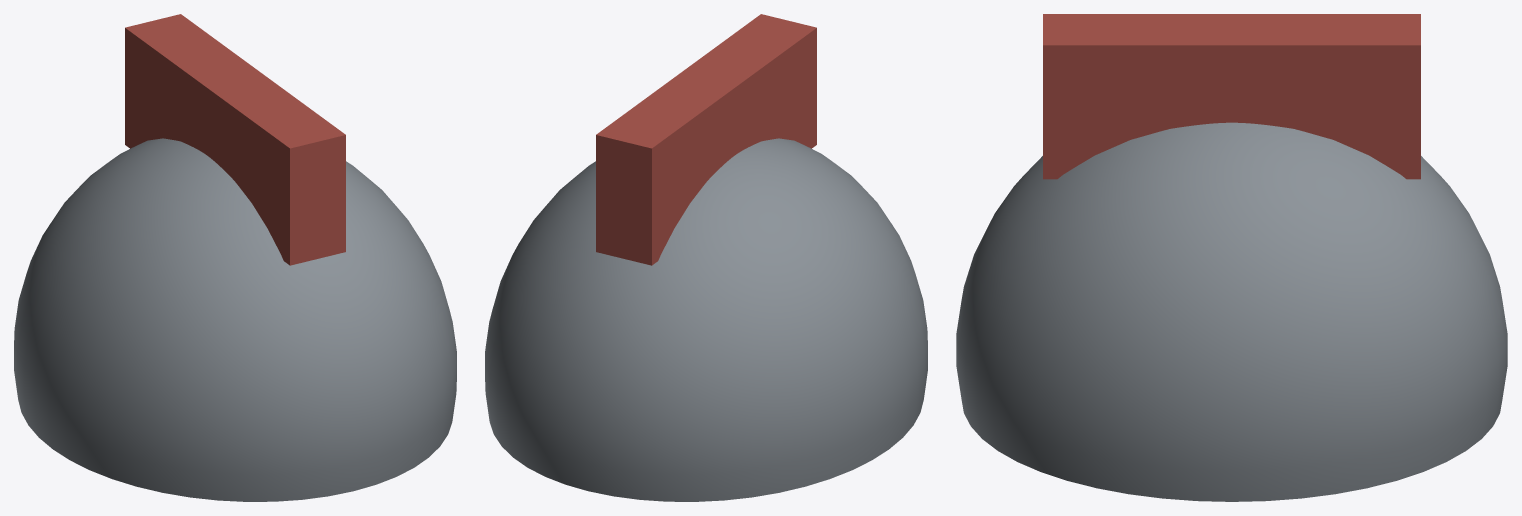
File: roman_helmet.glb
3 views of the same model, side by side, from view 1: azimuth 30°, elevation 25°; view 2: azimuth 150°, elevation 25°; view 3: azimuth 270°, elevation 25° (orthographic). The views are drawn at different scales.
Visible parts, largest first — view 1: world; view 2: world; view 3: world.
Boxes of the visible parts, x1,y1,x2,y2 form: world: (14, 14, 456, 501); world: (485, 14, 927, 501); world: (956, 14, 1507, 501).
Size of the model in its own units: 0.2993 by 0.2486 by 0.3352.
